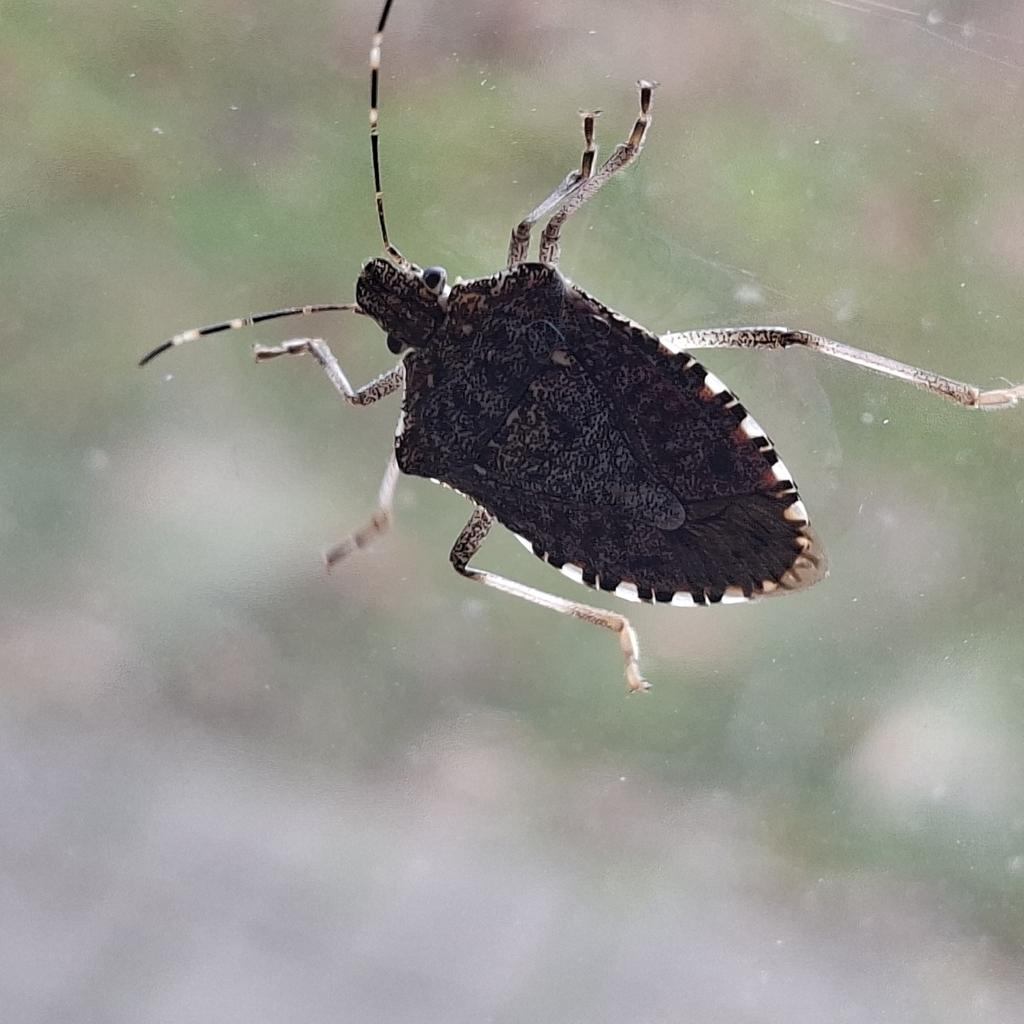stink_bugs: (20, 0, 1024, 789)
